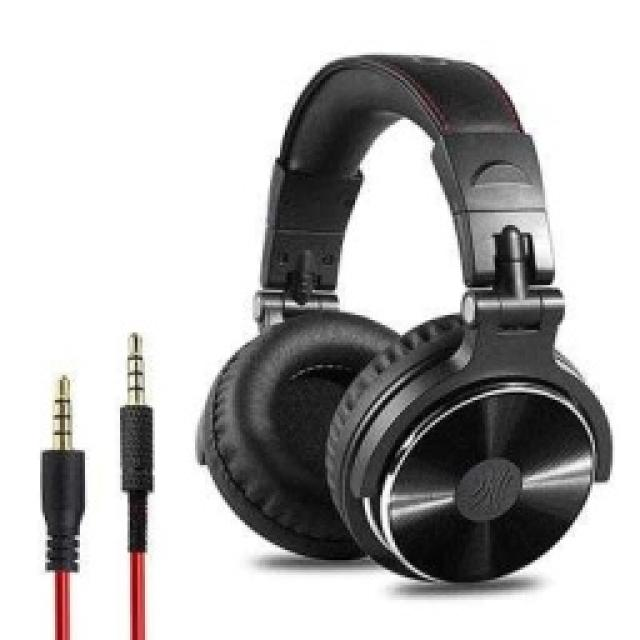headphones: (193, 50, 615, 582)
